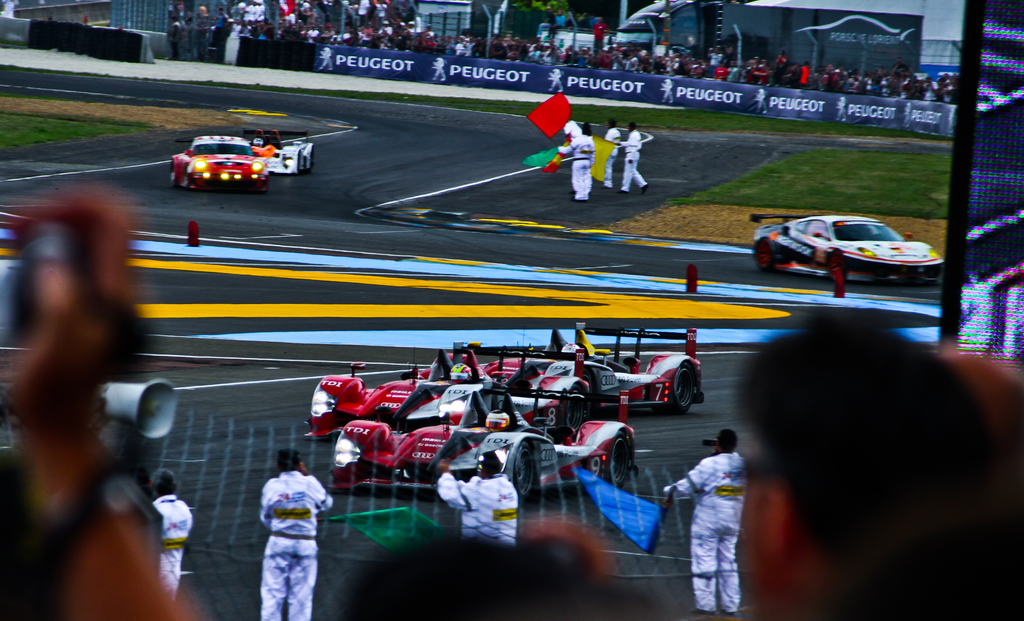mobil: (748, 211, 940, 297)
